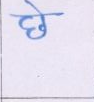e_matra: (24, 0, 43, 14)
